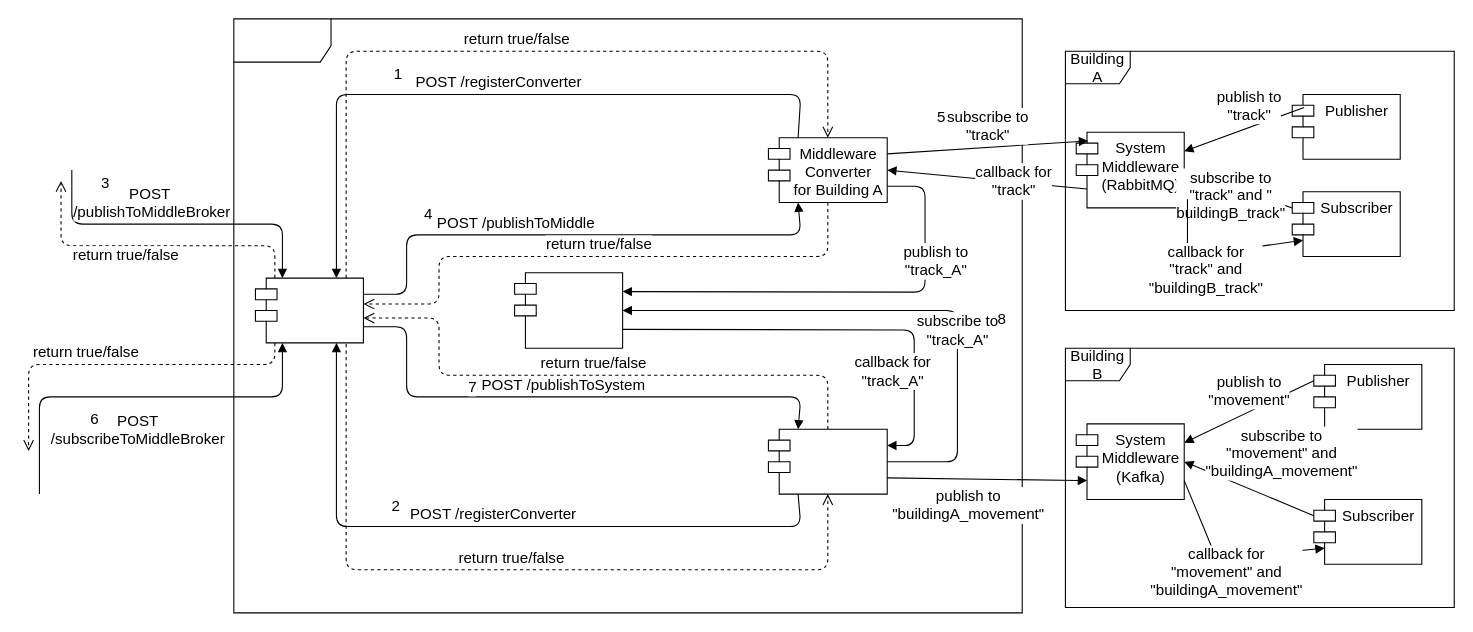
Some shapes in this 1473 by 632 pixel diagram are drawn without their labels. The shapes that lost their labels are listed below. From the top down, each one's box as (x1, y1, x2, y2) in pixels, then its label:
(254, 277, 363, 343): Converter Configurator
(514, 272, 623, 348): Middle Middleware (RabbitMQ)
(233, 18, 1022, 613): Interoperability Tool
(767, 428, 887, 494): Middleware Converter for Building B
